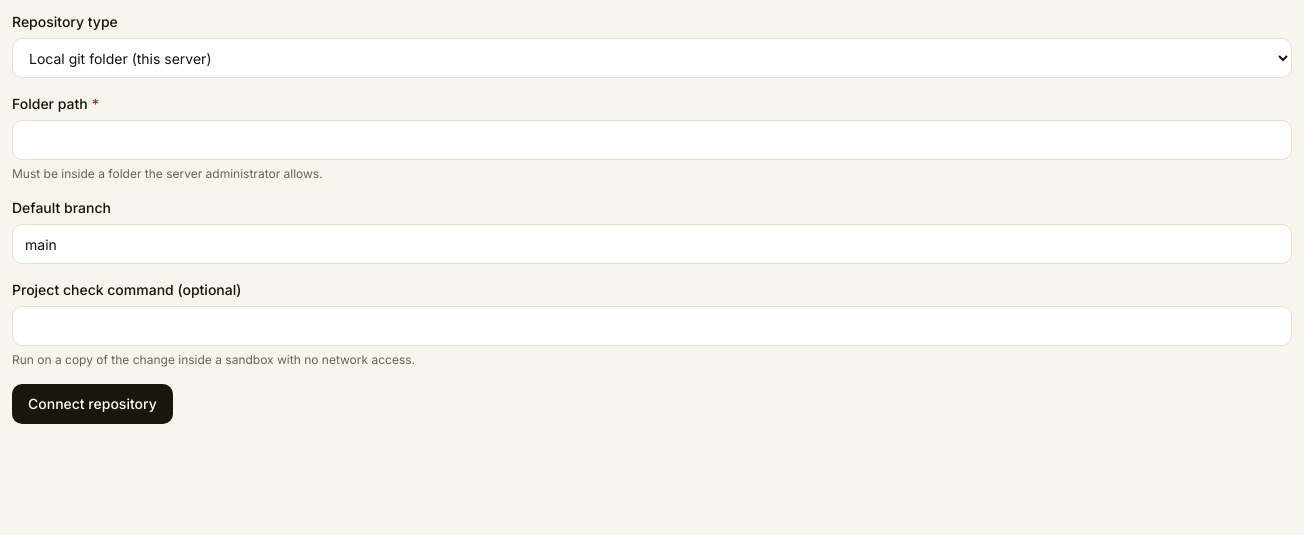
Test: RepositoryCard › shows the server's reason when connecting fails
In the field labelled "Folder path*": coordinates (652, 140) [12,120,1292,160], type "/etc"
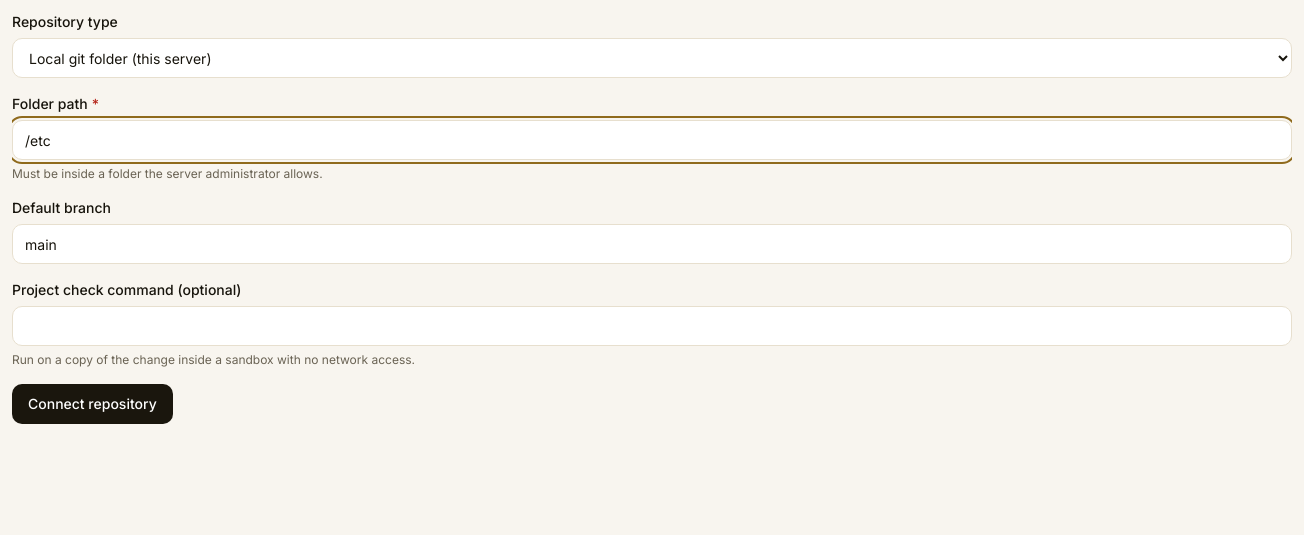
Click the button "Connect repository": coordinates (92, 404) [12,384,173,424]
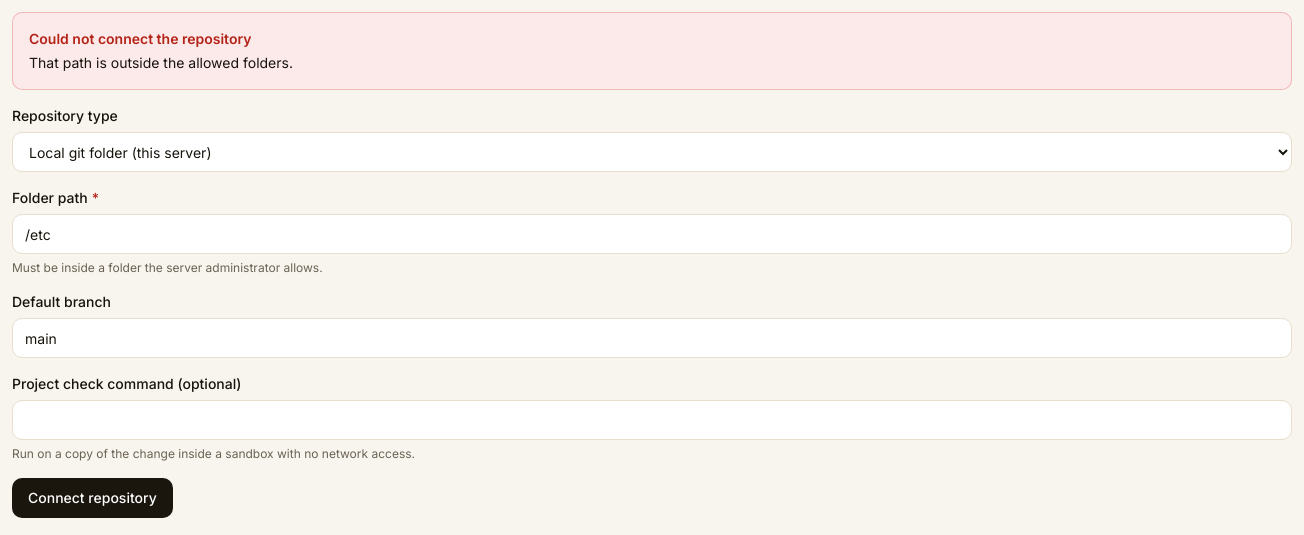
Expected: the message shows "outside the allowed folders", [29,54,293,71]
